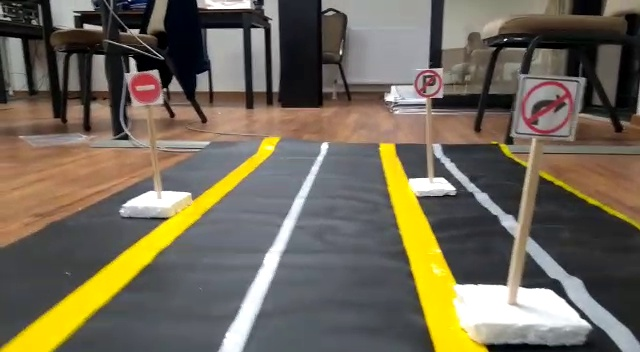girisi_olmayan_yol: (126, 71, 163, 104)
park_yapilmaz: (414, 67, 441, 100)
saga_donulmez: (518, 79, 582, 134)
